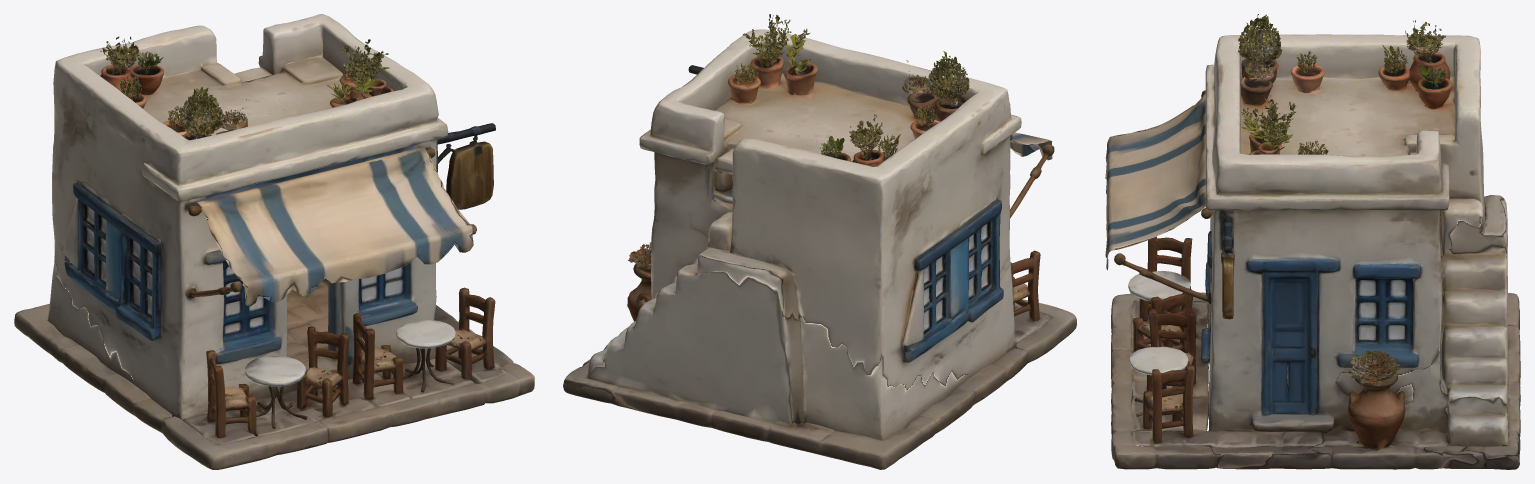
Rendered from cafebldg.glb.
3 renders of one model, left to right at view 1: azimuth 30°, elevation 25°; view 2: azimuth 150°, elevation 25°; view 3: azimuth 270°, elevation 25°, orthographic. The views are drawn at different scales.
Parts seen in each view (by area): view 1: geometry_0; view 2: geometry_0; view 3: geometry_0.
Boxes of the visible parts, left/top/right/bottom form: geometry_0: left=14, top=14, right=534, bottom=469; geometry_0: left=563, top=14, right=1076, bottom=469; geometry_0: left=1105, top=14, right=1520, bottom=469.
Size of the model in its own units: 0.9709 by 0.8657 by 0.9975.
Materials: 1 (1 with a texture image).
